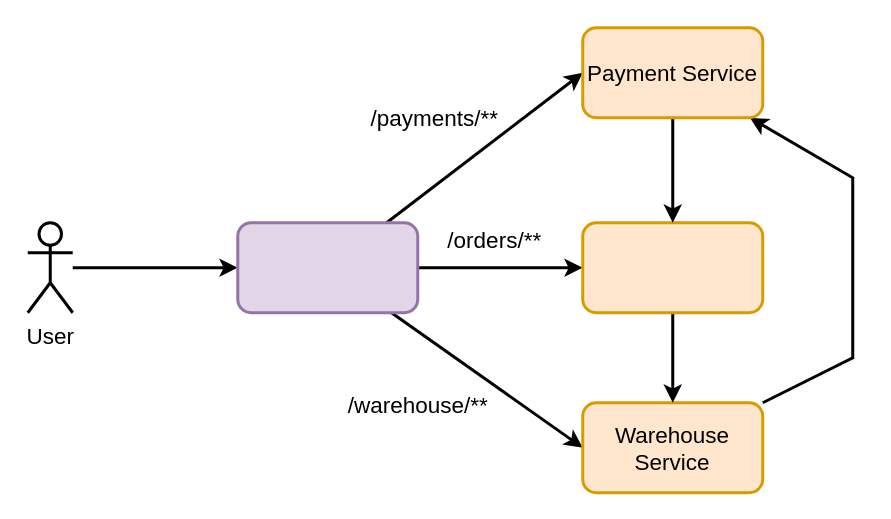
Some shapes in this 891 by 519 pixel diagram are drawn without their labels. Each missing label, with the centre of its shape:
"API Gateway" belongs at [327,267].
"Order Service" belongs at [672,267].
